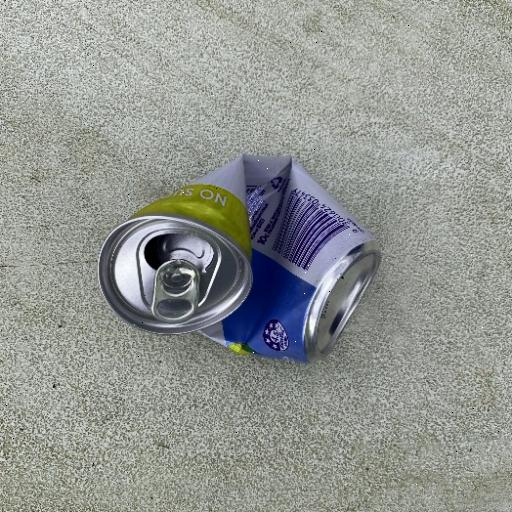Metal: (95, 150, 383, 366)
